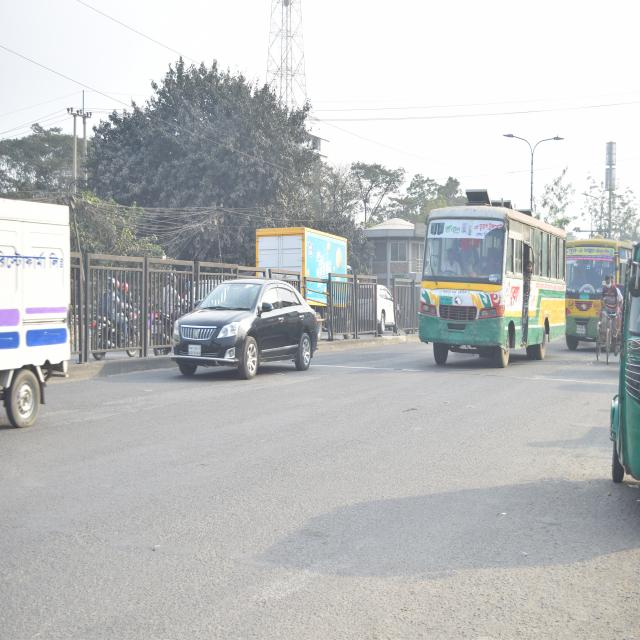bus: (416, 202, 565, 366), (562, 236, 620, 344)
car: (166, 268, 322, 390), (353, 271, 403, 335)
pickup-van: (0, 188, 83, 412), (256, 224, 353, 314)
